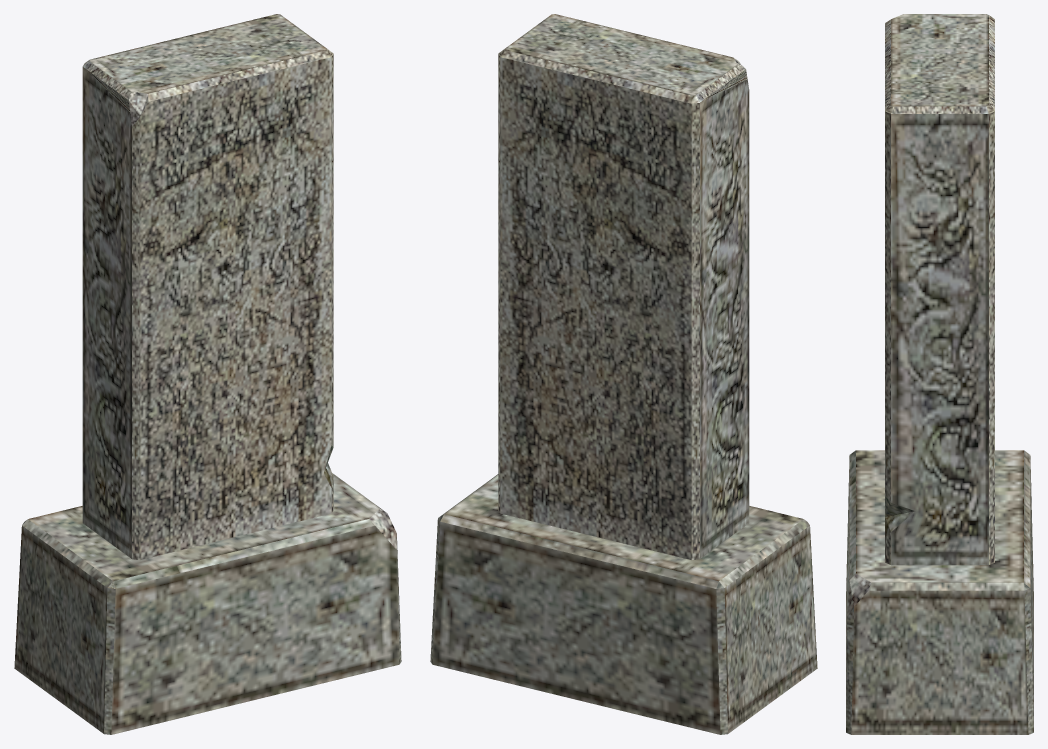
The model's file is tombstone1.fbx.
The picture shows the model from 3 angles, left to right: view 1: azimuth 30°, elevation 25°; view 2: azimuth 150°, elevation 25°; view 3: azimuth 270°, elevation 25°; orthographic projection.
Visible parts, largest first — view 1: Object03; view 2: Object03; view 3: Object03.
Boxes of the visible parts, x1,y1,x2,y2 form: Object03: (14,14,401,734); Object03: (430,14,817,734); Object03: (846,14,1033,734).
Size of what is drawn, in the model's own units: 2.17 by 4.25 by 1.2.
